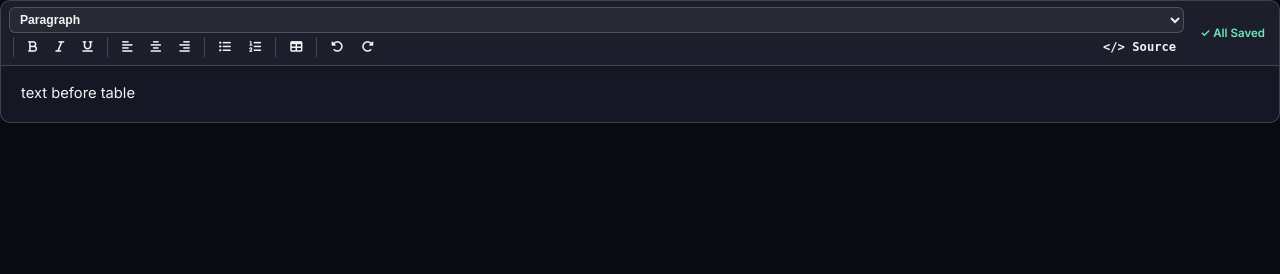
Scenario: WysiwygEditor — toolbar formatting actions › inserting a table renders a 3x3 grid with a header row
Expected: the text box "text before table" is shown, [21,84,135,102]
What coordinates should you click on to do the following:
click the button with test id "editor-insert-table-btn"
I would click on:
 (296, 47)
Its box is [282,36,310,58].
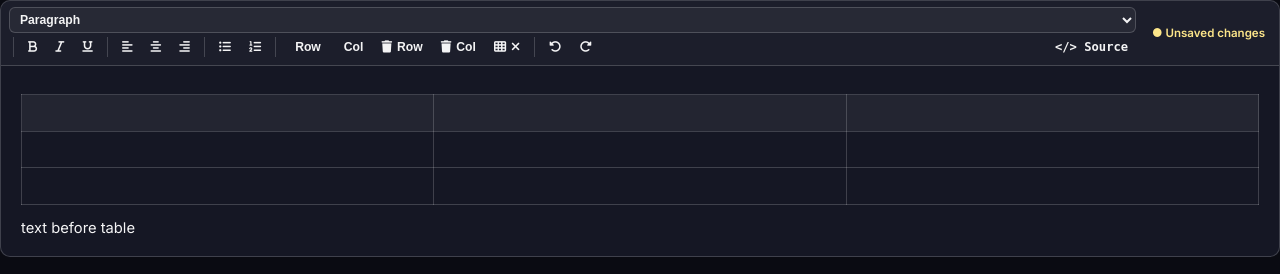
Expected: the table is shown, [21,94,1259,205]
Expected: the number of rows is 3, [22,94,1258,131]; [22,131,1258,168]; [22,168,1258,204]
Expected: the number of column headings is 3, [22,94,434,131]; [434,94,846,131]; [846,94,1258,131]
